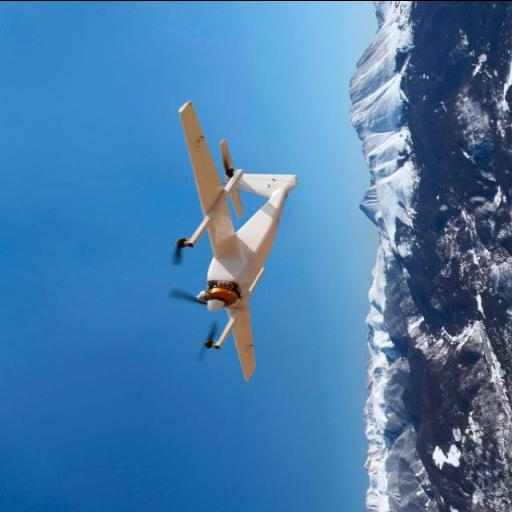uav: (164, 88, 299, 380)
